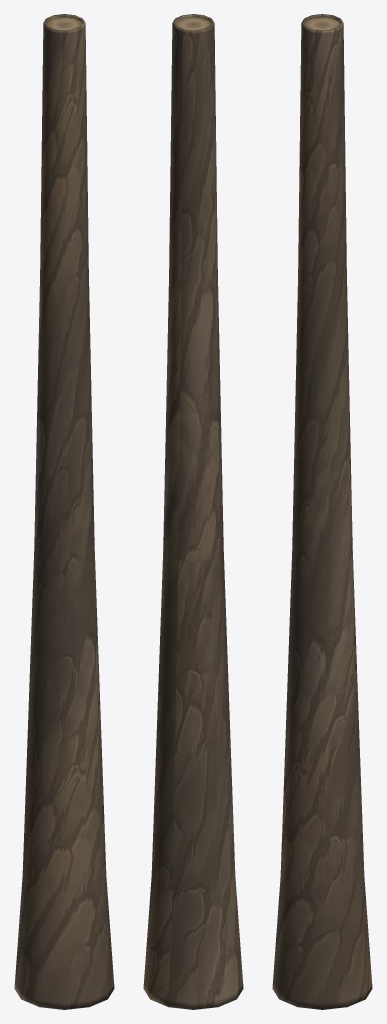
File: tree01_log.fbx
The picture shows the model from 3 angles, left to right: view 1: azimuth 30°, elevation 25°; view 2: azimuth 150°, elevation 25°; view 3: azimuth 330°, elevation 25°; orthographic projection.
Visible parts, largest first — view 1: Cylinder.008; view 2: Cylinder.008; view 3: Cylinder.008.
Part boxes in pixels (x1,y1,x2,y2): Cylinder.008: (14,14,114,1009); Cylinder.008: (143,14,243,1009); Cylinder.008: (272,14,372,1009).
Bounding box in the file's own units: 27.33 × 291 × 27.33.
